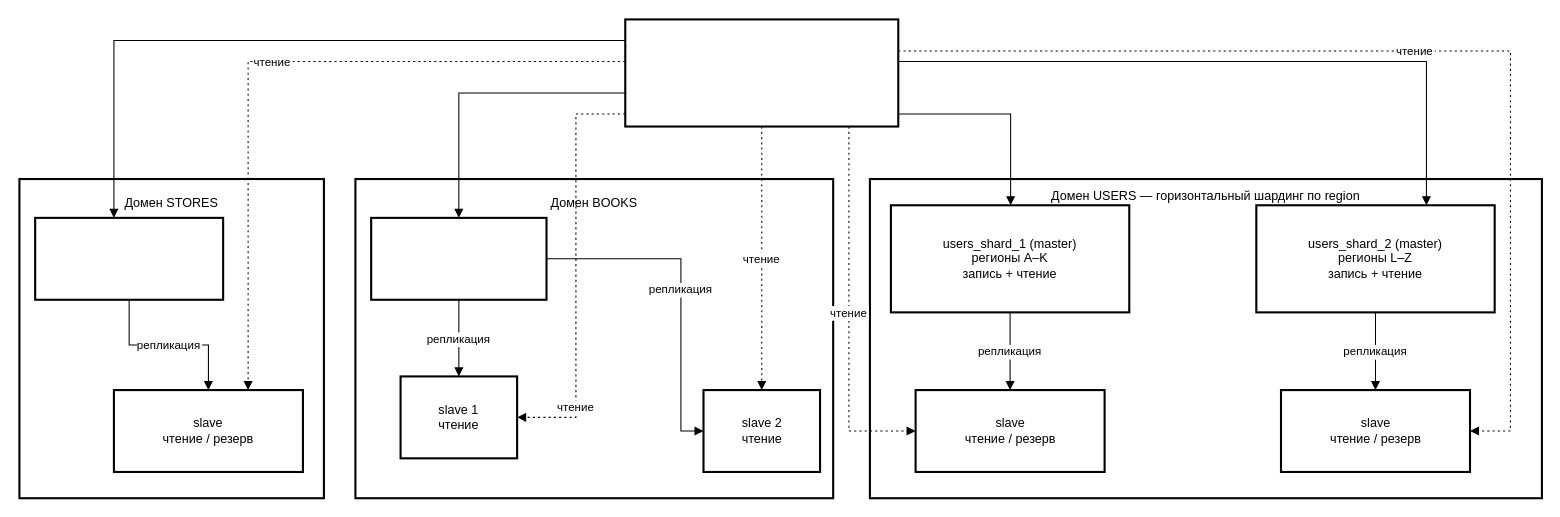
The diagram is 1560 pixels wide and 517 high, and some of its shapes have lost their labels. Each missing label, with the centre of its shape:
"books (master) запись" goes at (458,258).
"stores (master) запись + чтение" goes at (129,258).
"Приложение / API маршрутизация по ключу шардирования" goes at (761,72).
